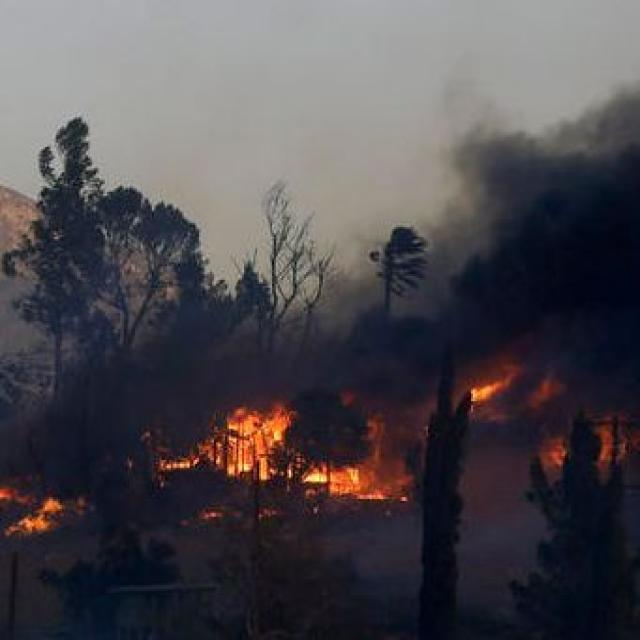Fire: (172, 414, 397, 503), (0, 485, 68, 534)
Smoke: (302, 106, 640, 375)
